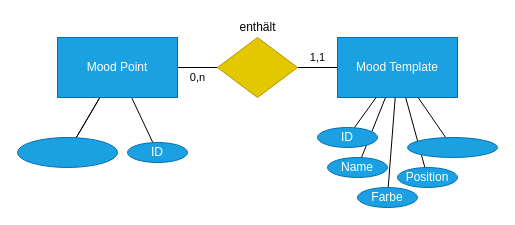
Image size: 515x225. Some labels were removed from this diagram. The centre of each missing label's shape, as x and y in pixels:
Beschreibung: the point at 452,147
Datumsstempel: the point at 67,152
